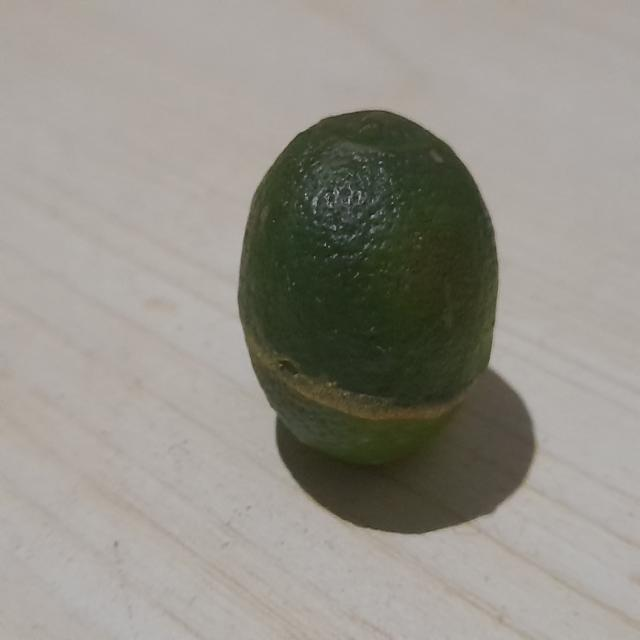thrips: (232, 92, 509, 485)
